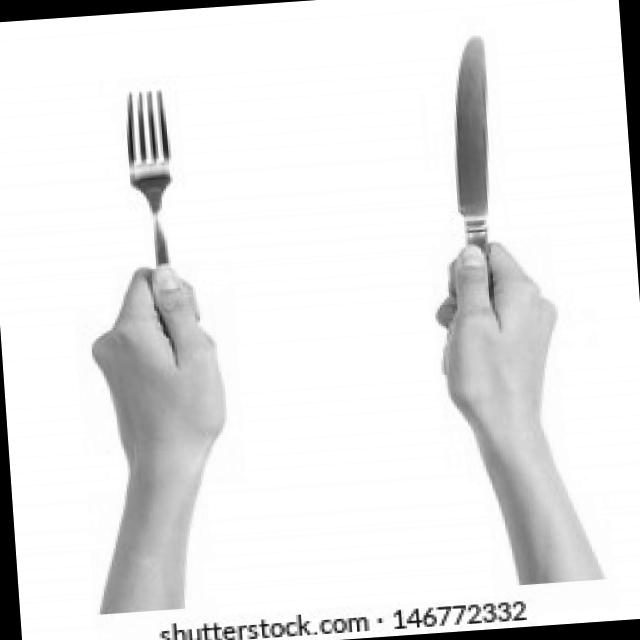fork: (116, 83, 190, 334)
